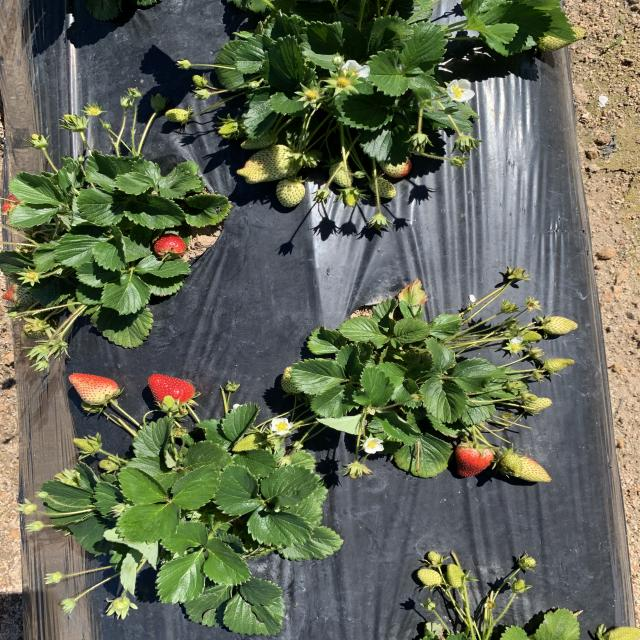unripe: (144, 374, 202, 411), (448, 442, 496, 481), (66, 371, 118, 404), (152, 226, 186, 267), (4, 187, 31, 218)
